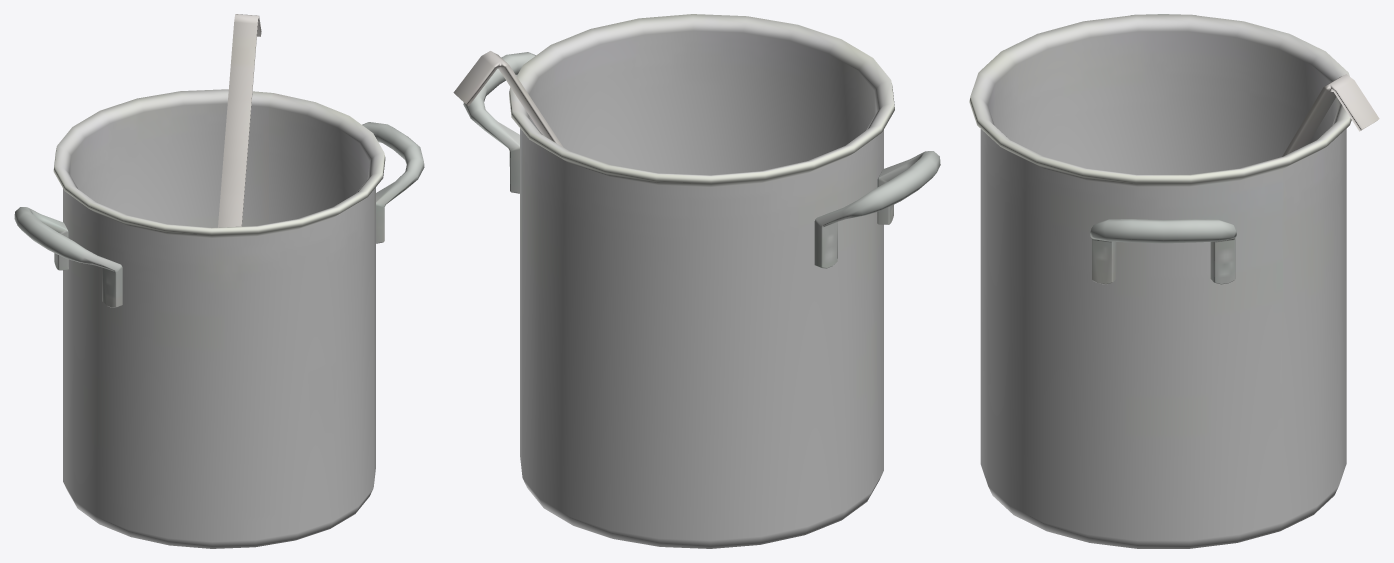
3 views of the same model, side by side, from view 1: azimuth 30°, elevation 25°; view 2: azimuth 150°, elevation 25°; view 3: azimuth 270°, elevation 25° (orthographic). The views are drawn at different scales.
Bounding box in the file's own units: 8.13 × 8.05 × 6.53.
1 material, 1 textured.
